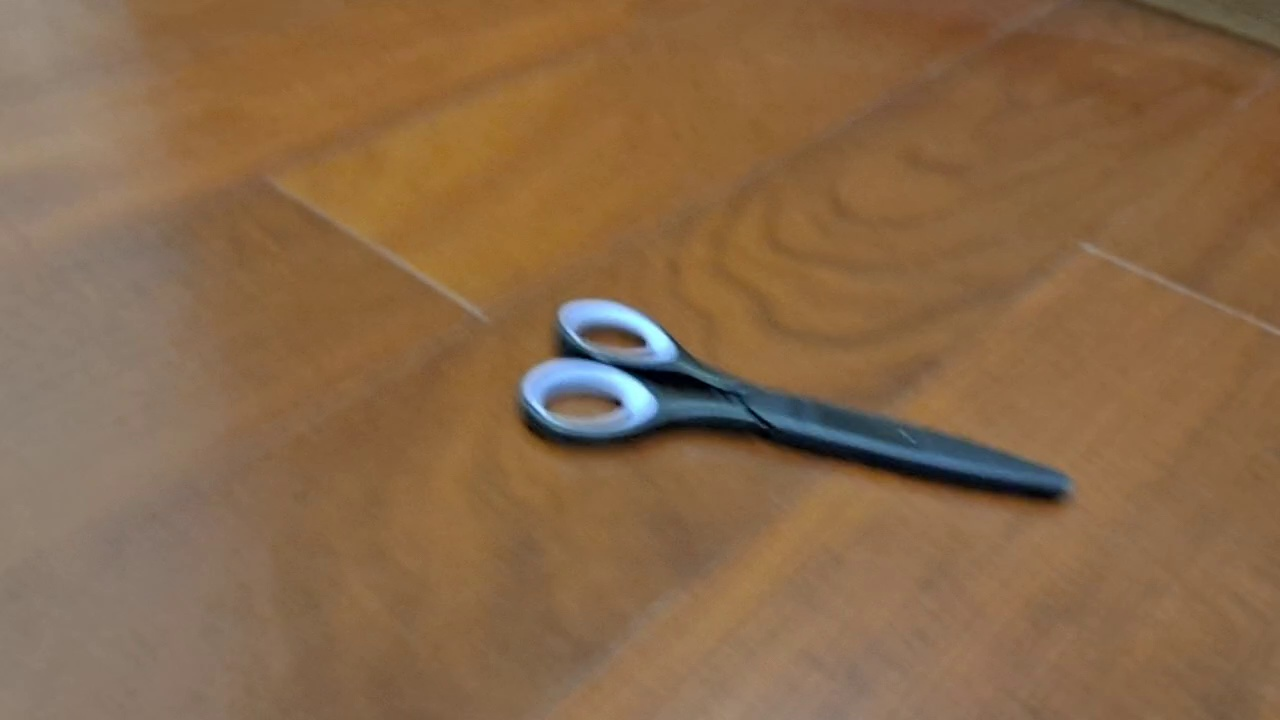scissors: (514, 295, 1078, 507)
